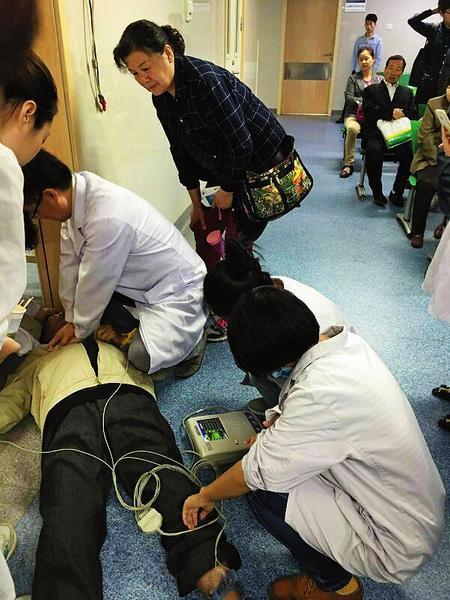fall: (0, 288, 220, 600)
